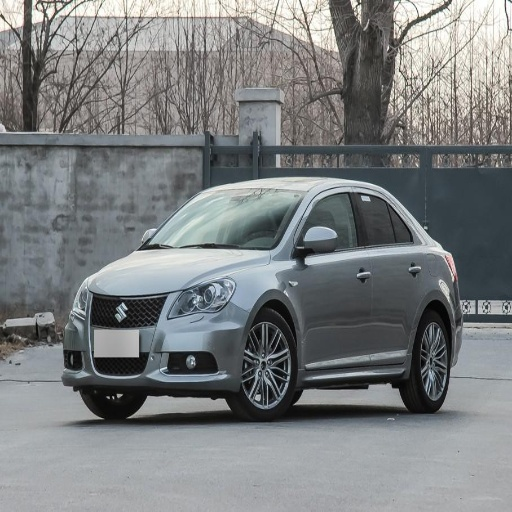front_bumper: (62, 286, 251, 394)
front_glass: (142, 190, 302, 250)
front_left_door: (294, 188, 371, 371)
